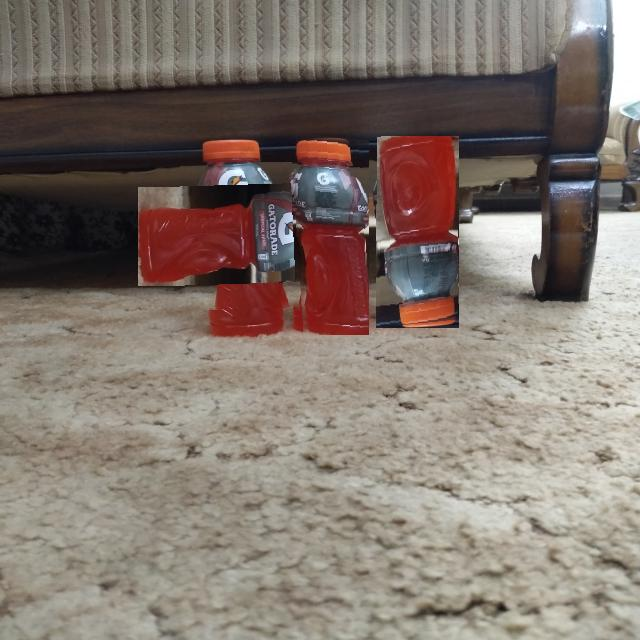Plastic: (162, 162, 312, 311), (290, 133, 369, 335), (376, 136, 459, 328)
